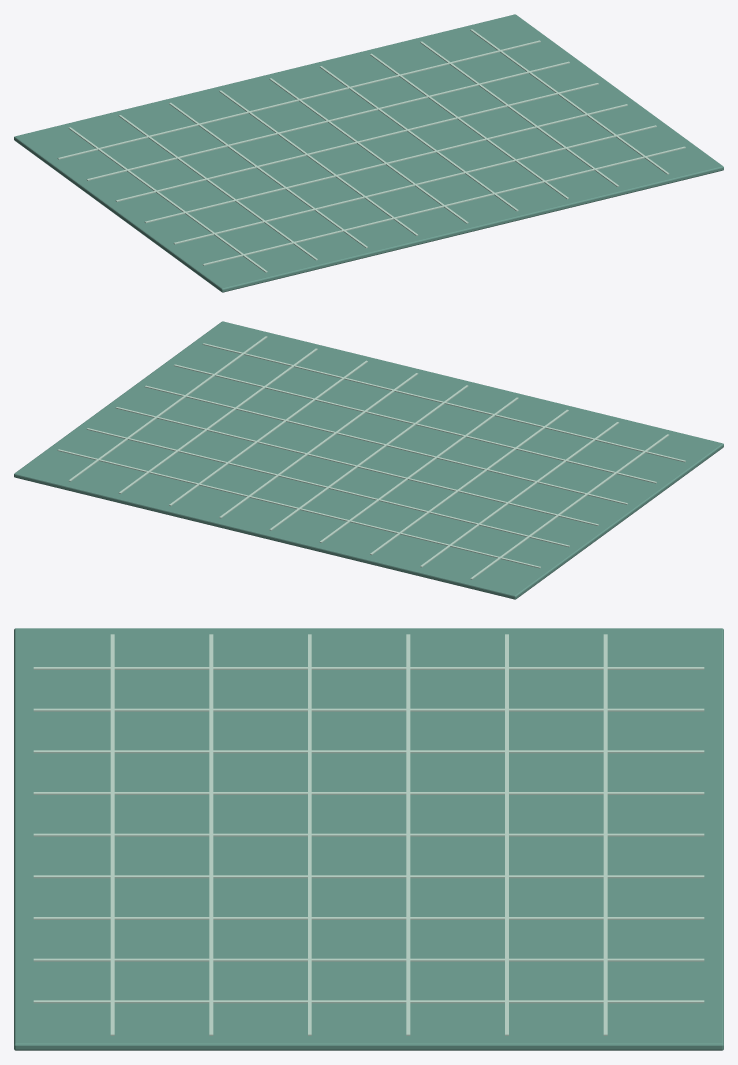
File: assembly_mat.fbx
The picture shows the model from 3 angles, top to bottom: view 1: azimuth 30°, elevation 25°; view 2: azimuth 150°, elevation 25°; view 3: azimuth 270°, elevation 25°; orthographic projection. The views are drawn at different scales.
Visible parts, largest first — view 1: assembly_mat; view 2: assembly_mat; view 3: assembly_mat.
Boxes of the visible parts, <box> form: assembly_mat: <box>14,14,723,292</box>; assembly_mat: <box>14,321,723,599</box>; assembly_mat: <box>14,628,723,1050</box>.
Bounding box in the file's own units: 0.5 × 0.0048 × 0.36.
